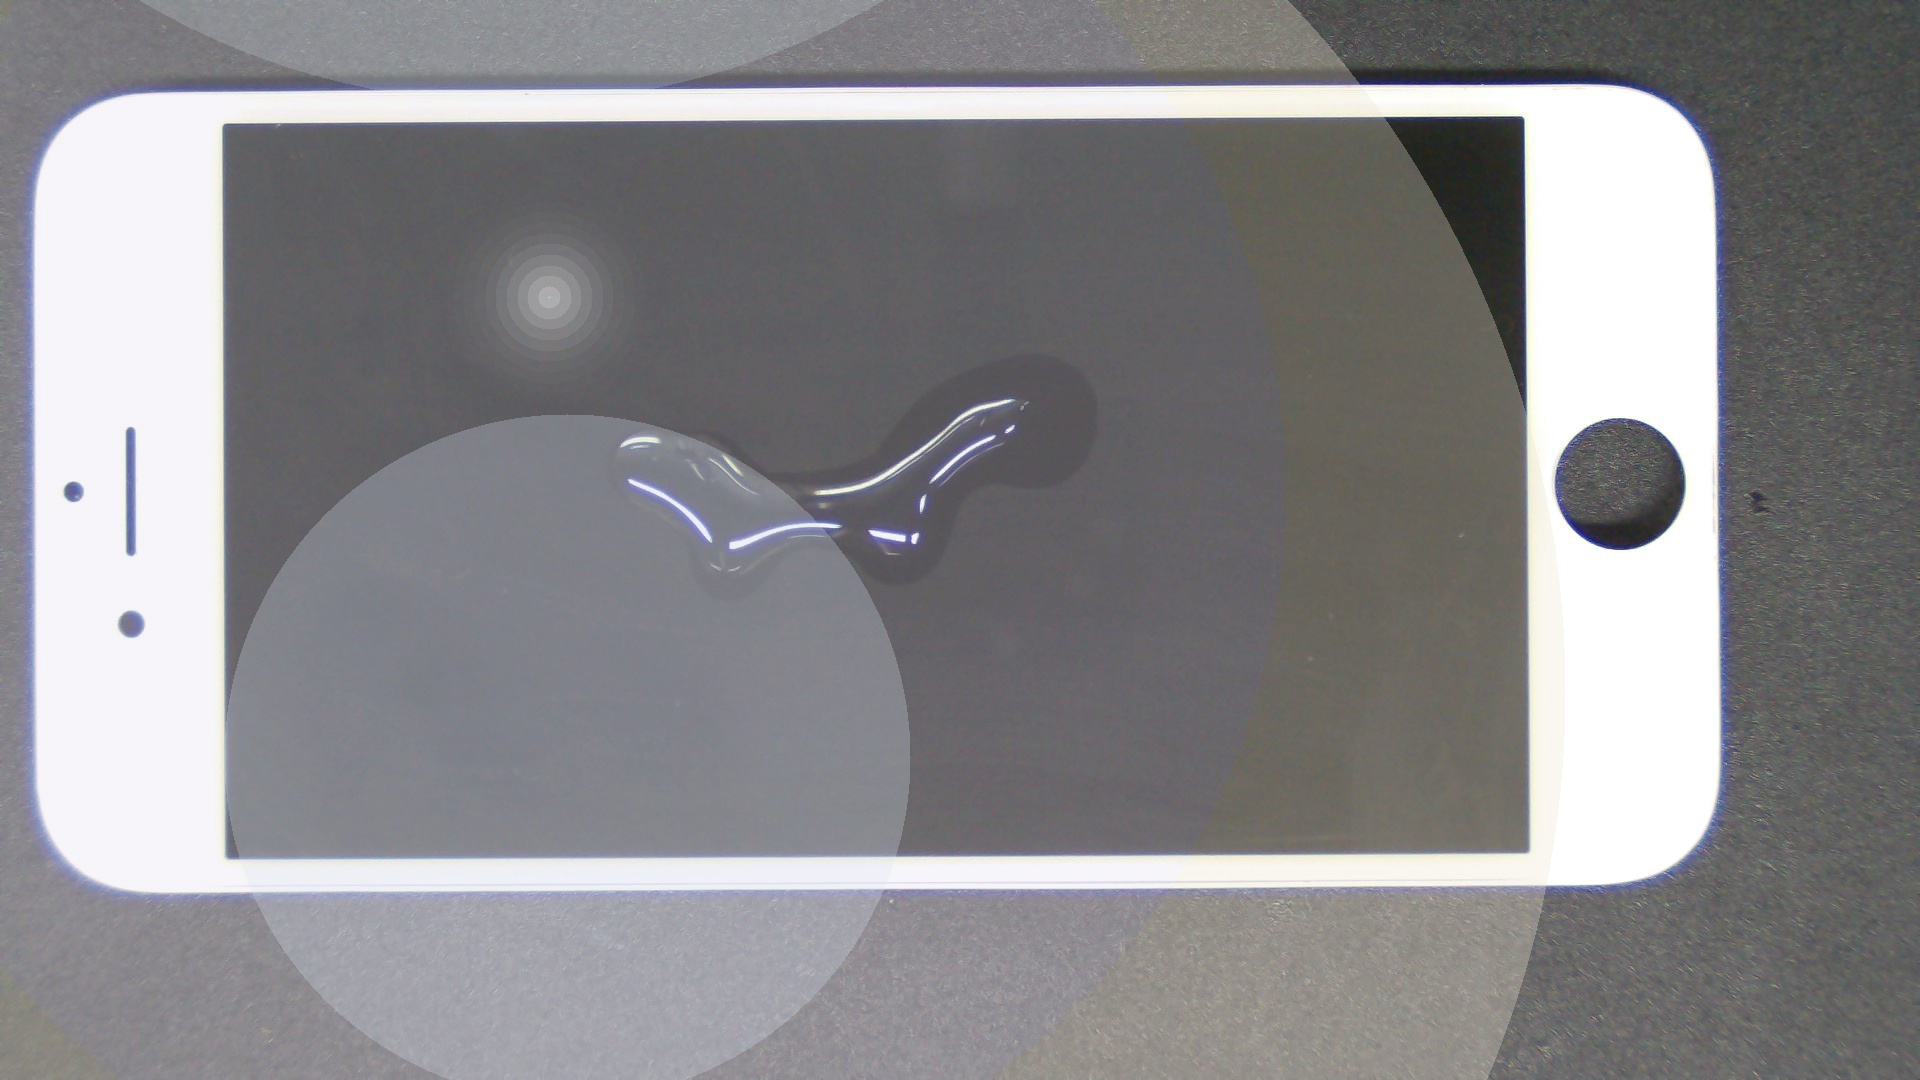oil: (512, 175, 1534, 529)
